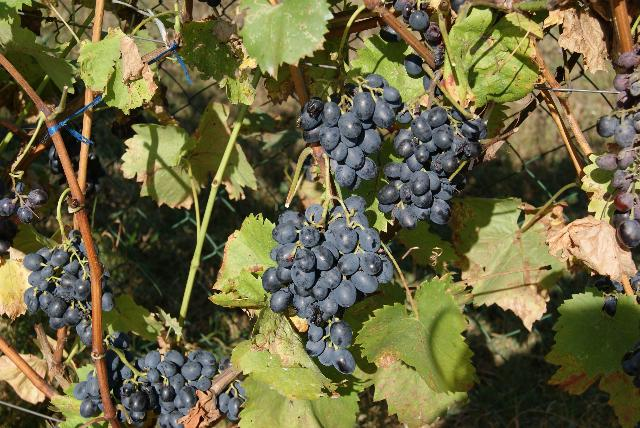grapes: (262, 196, 394, 375), (378, 104, 488, 230), (105, 331, 231, 428), (298, 74, 401, 190), (595, 46, 640, 248), (22, 230, 92, 346), (0, 181, 48, 224)
